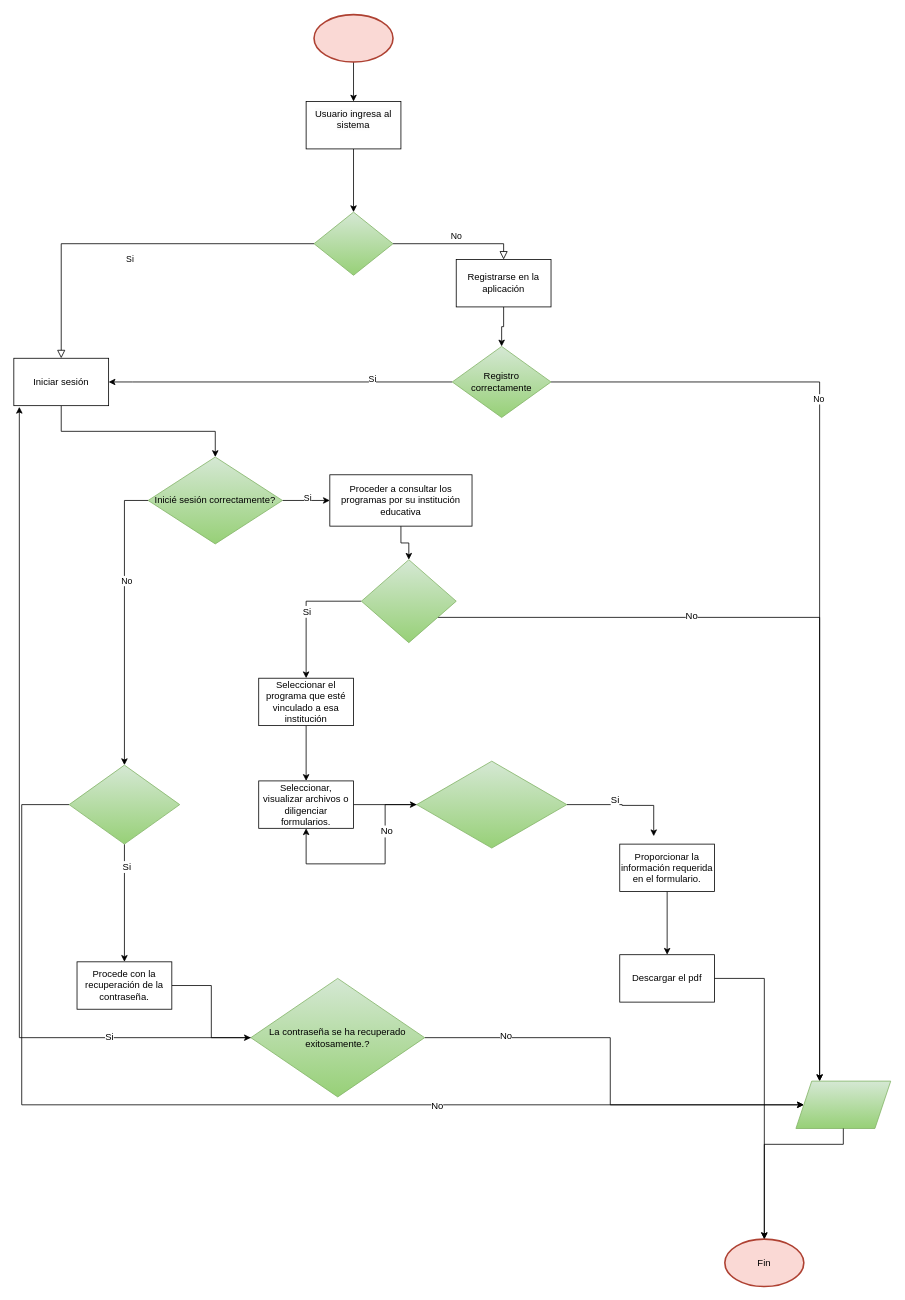
Image size: 905x1300. Some labels were removed from this diagram. The box of each missing label's shape, as (x1, y1, x2, y2) in pixels:
Comunícate con soporte: (795, 1080, 891, 1129)
Diligenciar el formulario.: (416, 760, 567, 848)
Inicio: (313, 13, 393, 62)
¿Encontró su institución?: (361, 559, 456, 643)
¿Olvidaste tu contraseña?: (68, 764, 180, 844)
¿Usuario registrado?: (313, 211, 393, 275)
